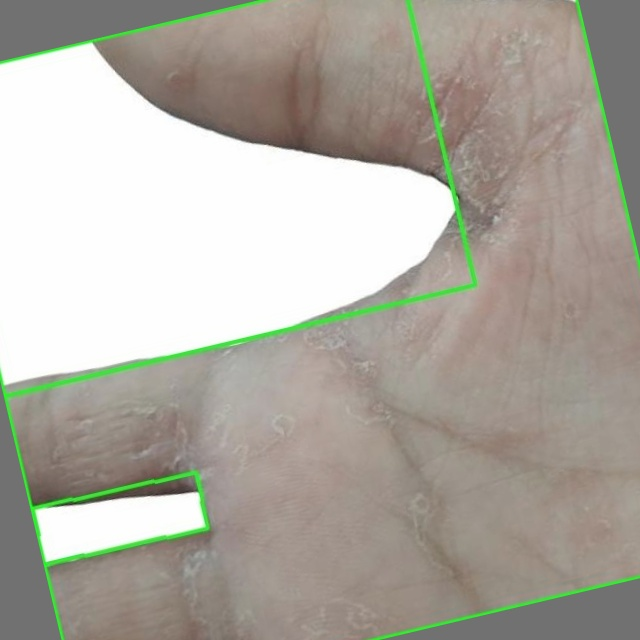Scabies: (0, 0, 639, 639), (0, 0, 475, 396), (31, 473, 208, 565)
